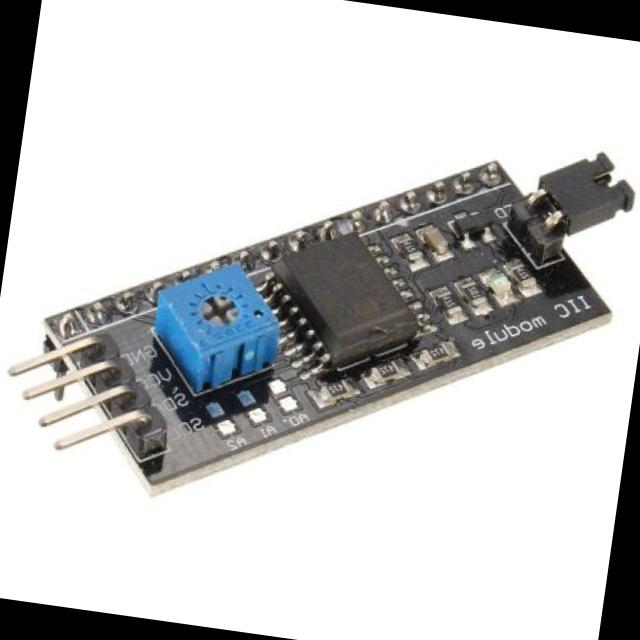IC: (252, 222, 432, 385)
LED: (484, 270, 514, 300)
capacitor: (420, 224, 450, 253)
connector: (0, 313, 176, 471), (502, 130, 640, 274)
potentiometer: (154, 258, 286, 387)
resistor: (313, 369, 359, 409), (372, 355, 411, 385), (508, 254, 541, 288), (431, 286, 464, 318), (392, 234, 428, 260), (420, 336, 453, 364), (459, 283, 487, 308)
transistor: (452, 202, 494, 247)
